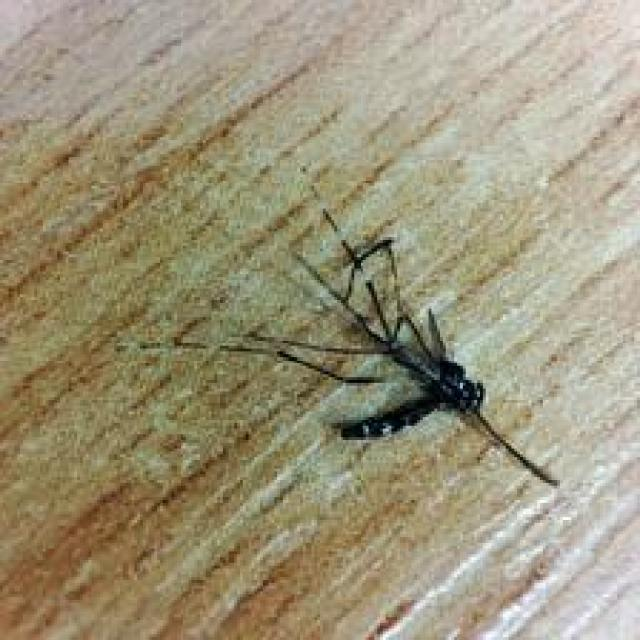Aedes albopictus: (116, 206, 561, 488)
